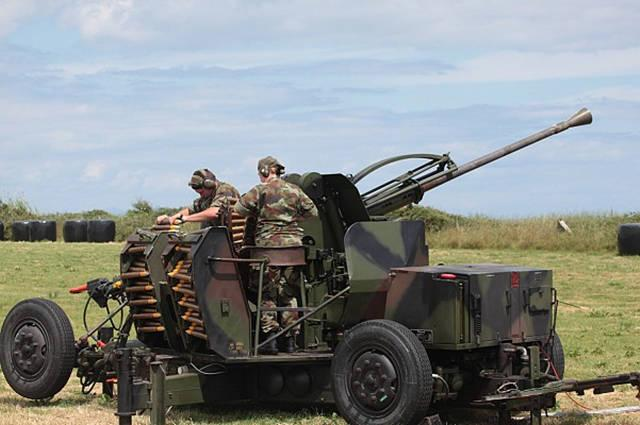MIL_SPG: (0, 110, 640, 424)
